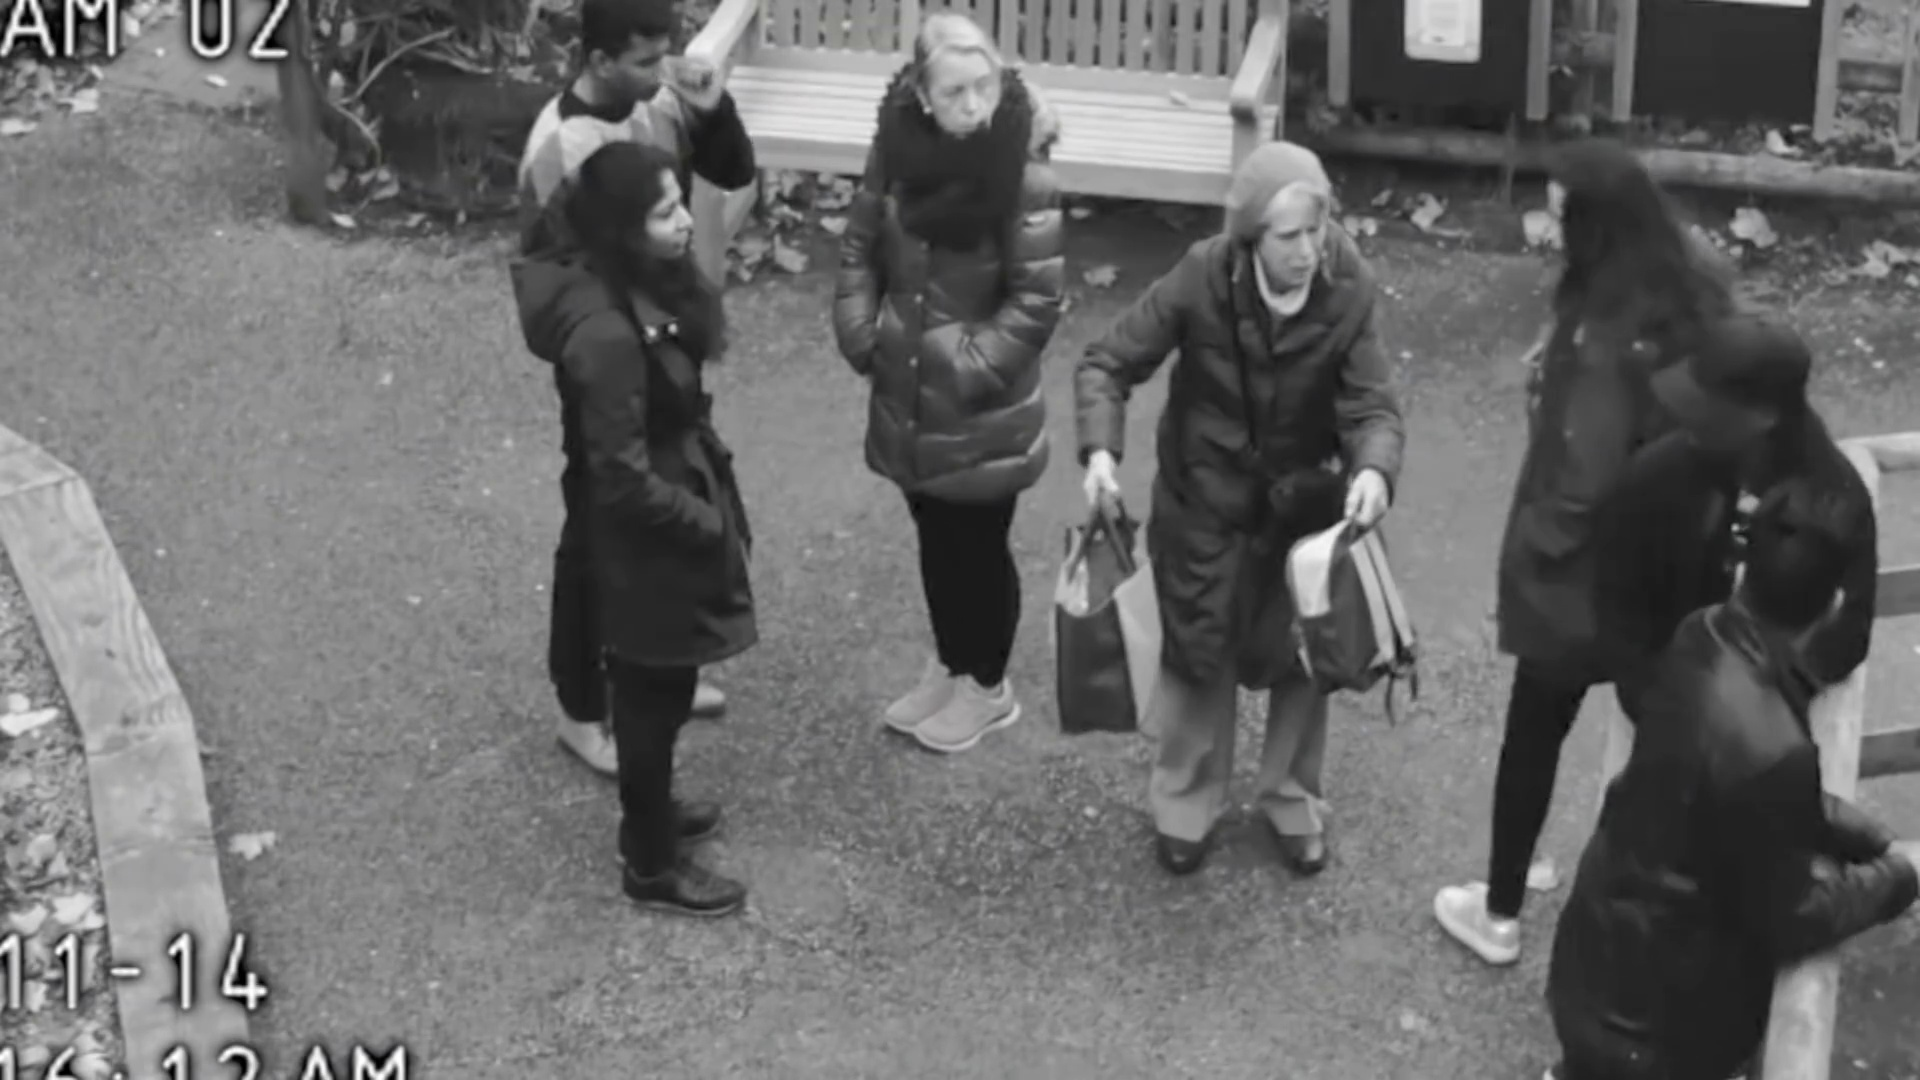face: (1244, 201, 1336, 279), (613, 179, 698, 263), (921, 59, 1006, 131), (606, 31, 666, 97)
